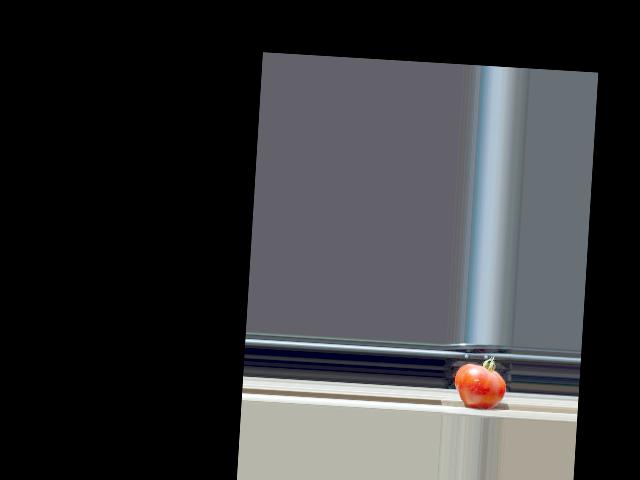tomato: (453, 354, 507, 409)
